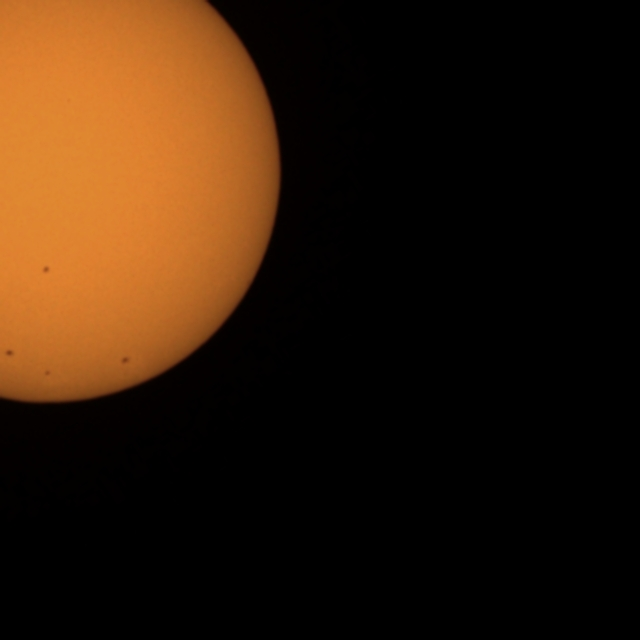sunspot: (120, 355, 132, 366), (4, 348, 16, 358), (41, 264, 51, 275), (43, 369, 52, 378)
